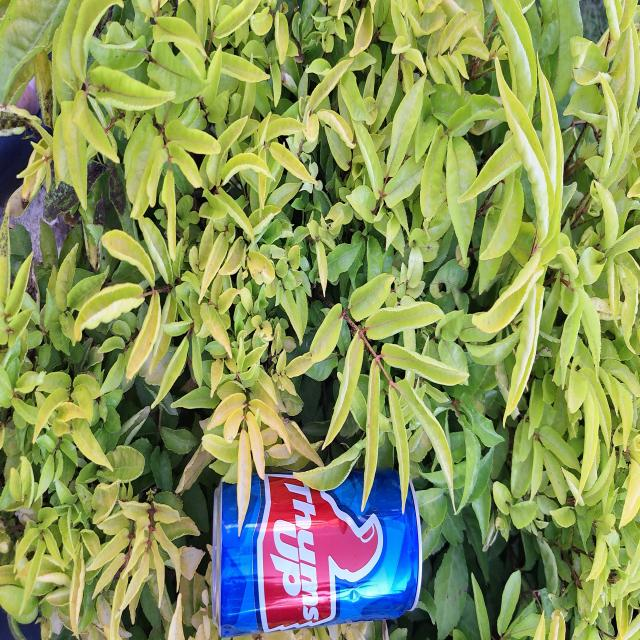Thums Up: (210, 467, 422, 636)
